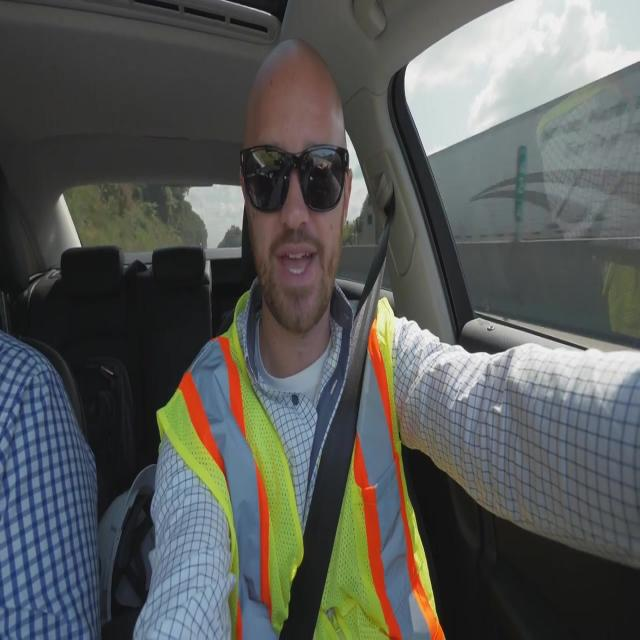Reflective-Jacket: (152, 299, 448, 638)
Safety-Helmet: (231, 34, 356, 174)
